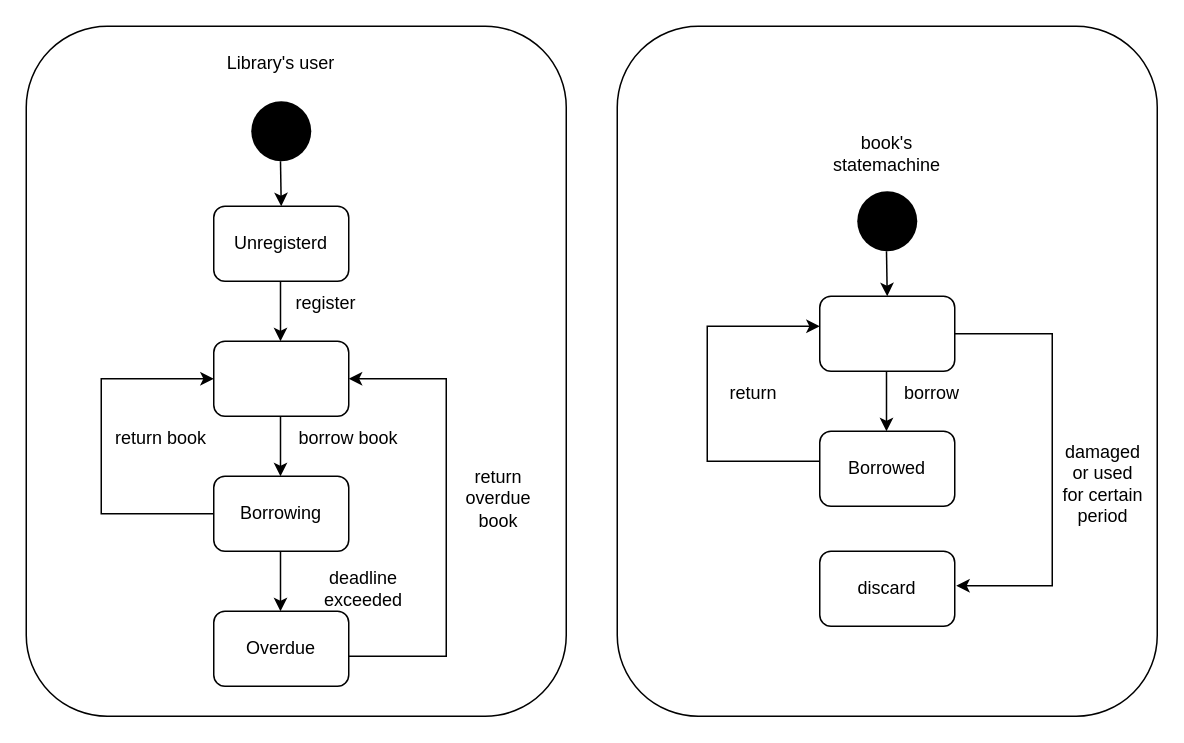
The diagram is 1184 pixels wide and 743 high, and some of its shapes have lost their labels. The shapes that lost their labels are listed below. From the top down, each one's box as (x1, y1, x2, y2) in pixels, then its label:
(818, 295, 955, 371): Available
(212, 340, 349, 416): Registerd
